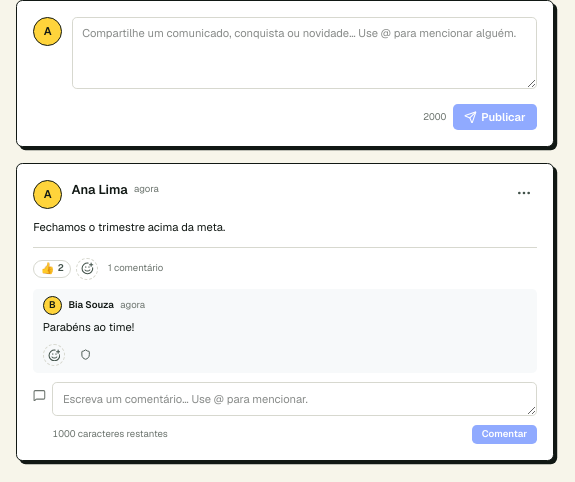
it: Moderation affordances › shows moderation/pin actions to a moderator on others' posts
Click the button named "Ações do post": (524, 192) [511,180,537,205]
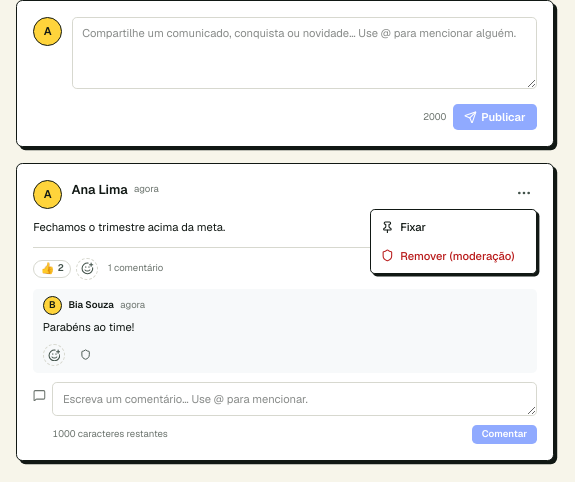
Now the menu item "Remover (moderação)" is shown, box [371,242,536,270]
Now the menu item "Fixar" is shown, box [371,213,536,242]
